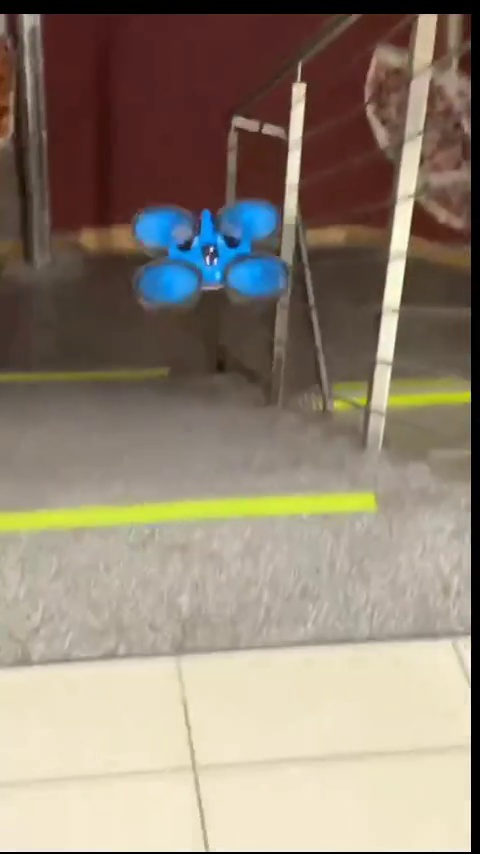drone: (132, 207, 299, 320)
